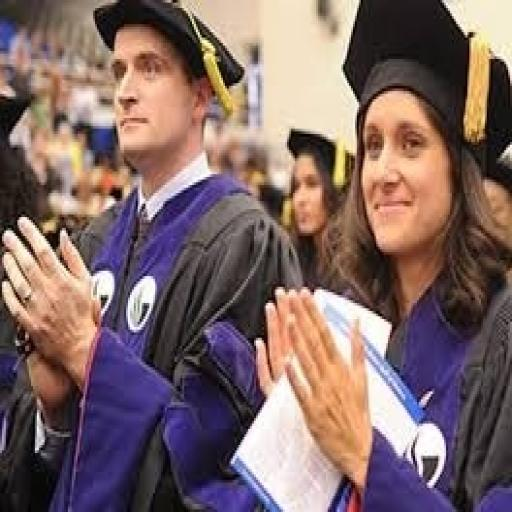clapping: (0, 0, 304, 509), (254, 0, 510, 509)
